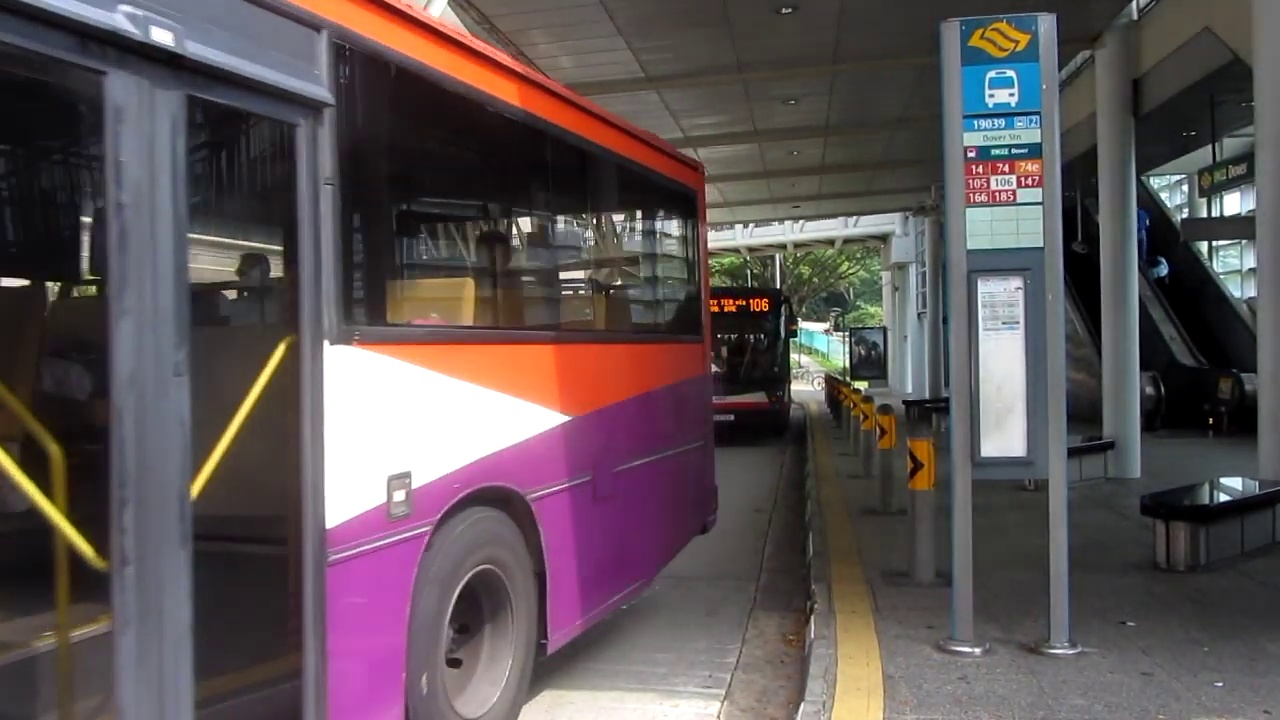bus panel: (709, 296, 770, 315)
